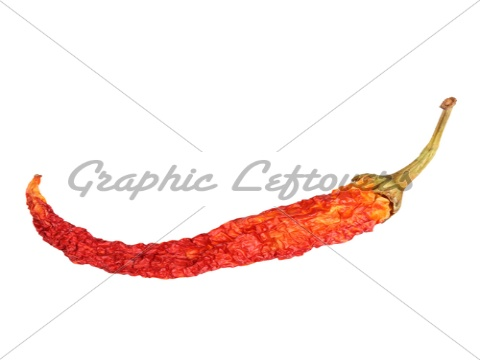Chilli: (20, 159, 444, 288)
